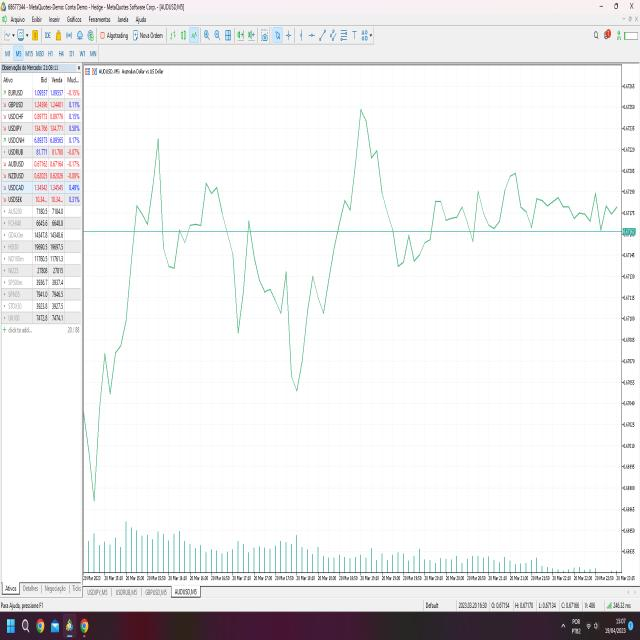oco_inv: (258, 262, 342, 408)
